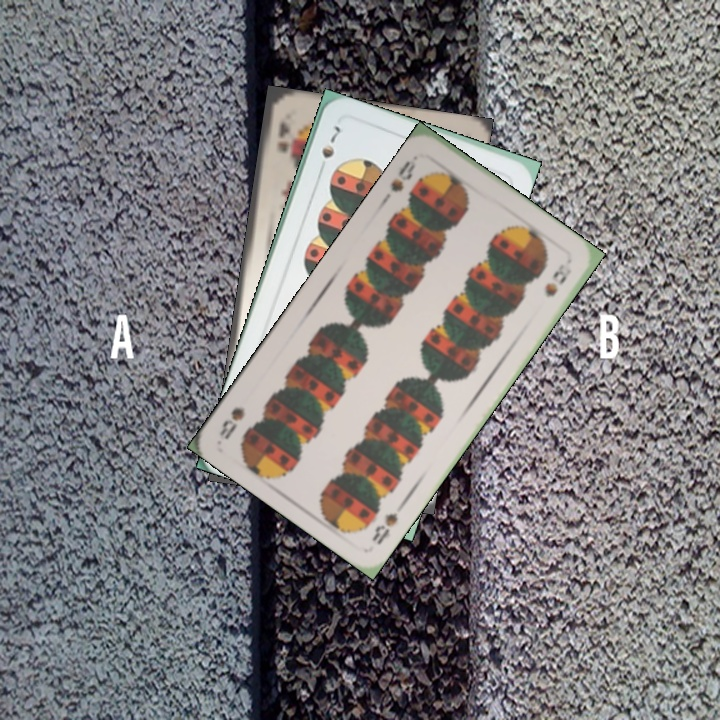S7: (315, 121, 344, 176)
S8: (367, 497, 408, 548), (386, 155, 419, 195)
SK: (273, 116, 292, 155)
